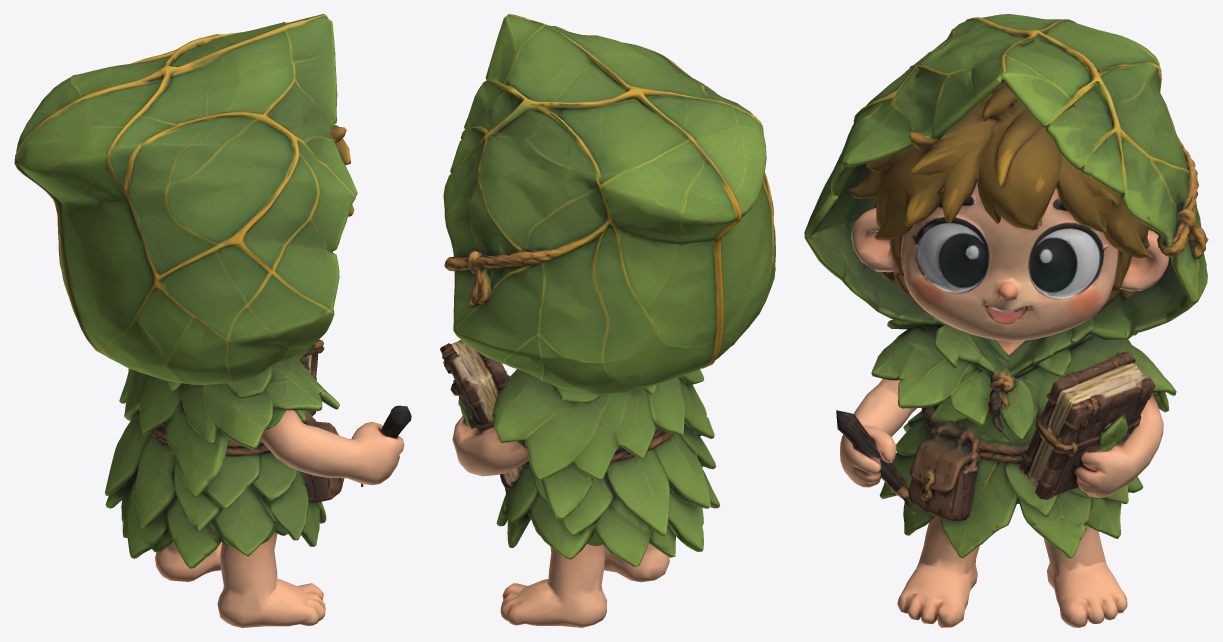
File: cognition-2.glb
3 views of the same model, side by side, from view 1: azimuth 30°, elevation 25°; view 2: azimuth 150°, elevation 25°; view 3: azimuth 270°, elevation 25° (orthographic). The views are drawn at different scales.
Parts seen in each view (by area): view 1: tripo_node_0466e45d-9972-4167-8c34-d689241ee5f7; view 2: tripo_node_0466e45d-9972-4167-8c34-d689241ee5f7; view 3: tripo_node_0466e45d-9972-4167-8c34-d689241ee5f7.
Boxes of the visible parts, box(x1,y1,x2,y2) form: tripo_node_0466e45d-9972-4167-8c34-d689241ee5f7: box(14, 14, 411, 627); tripo_node_0466e45d-9972-4167-8c34-d689241ee5f7: box(440, 14, 775, 627); tripo_node_0466e45d-9972-4167-8c34-d689241ee5f7: box(804, 14, 1208, 627).
Bounding box in the file's own units: 0.5585 × 0.9803 × 0.6259.
Materials: 1 (1 with a texture image).
